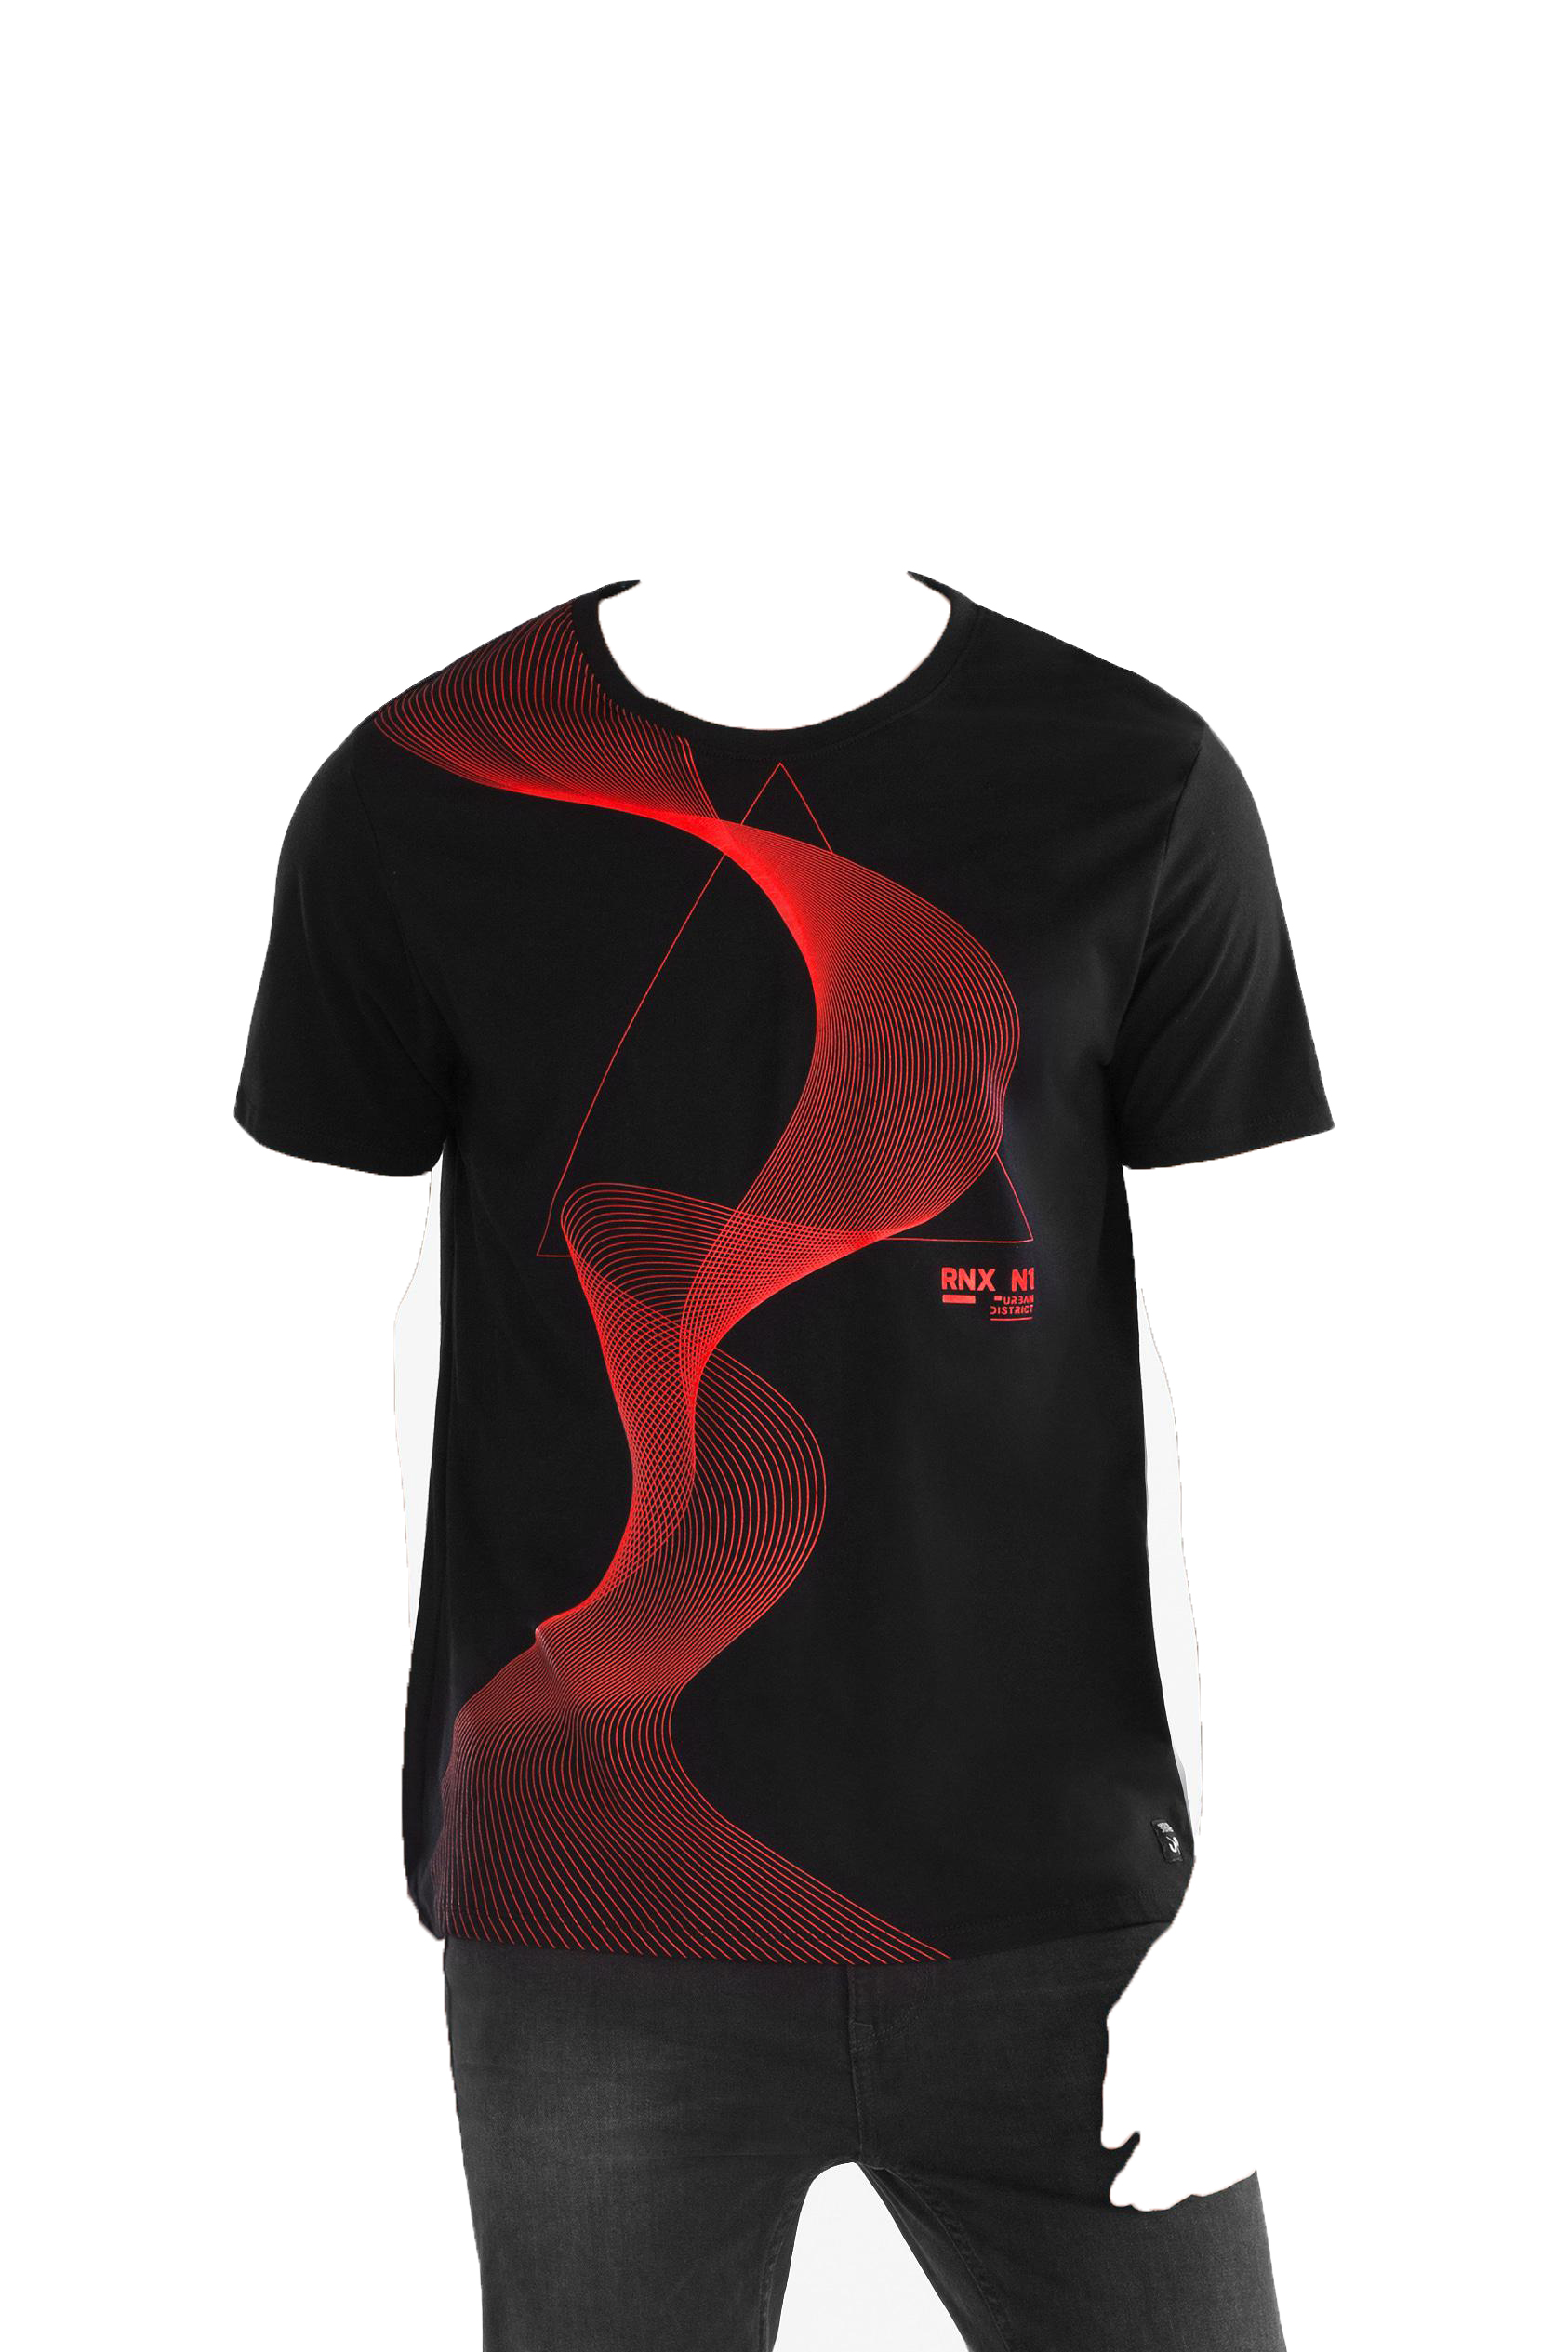teeshirt: (217, 556, 1358, 2009)
